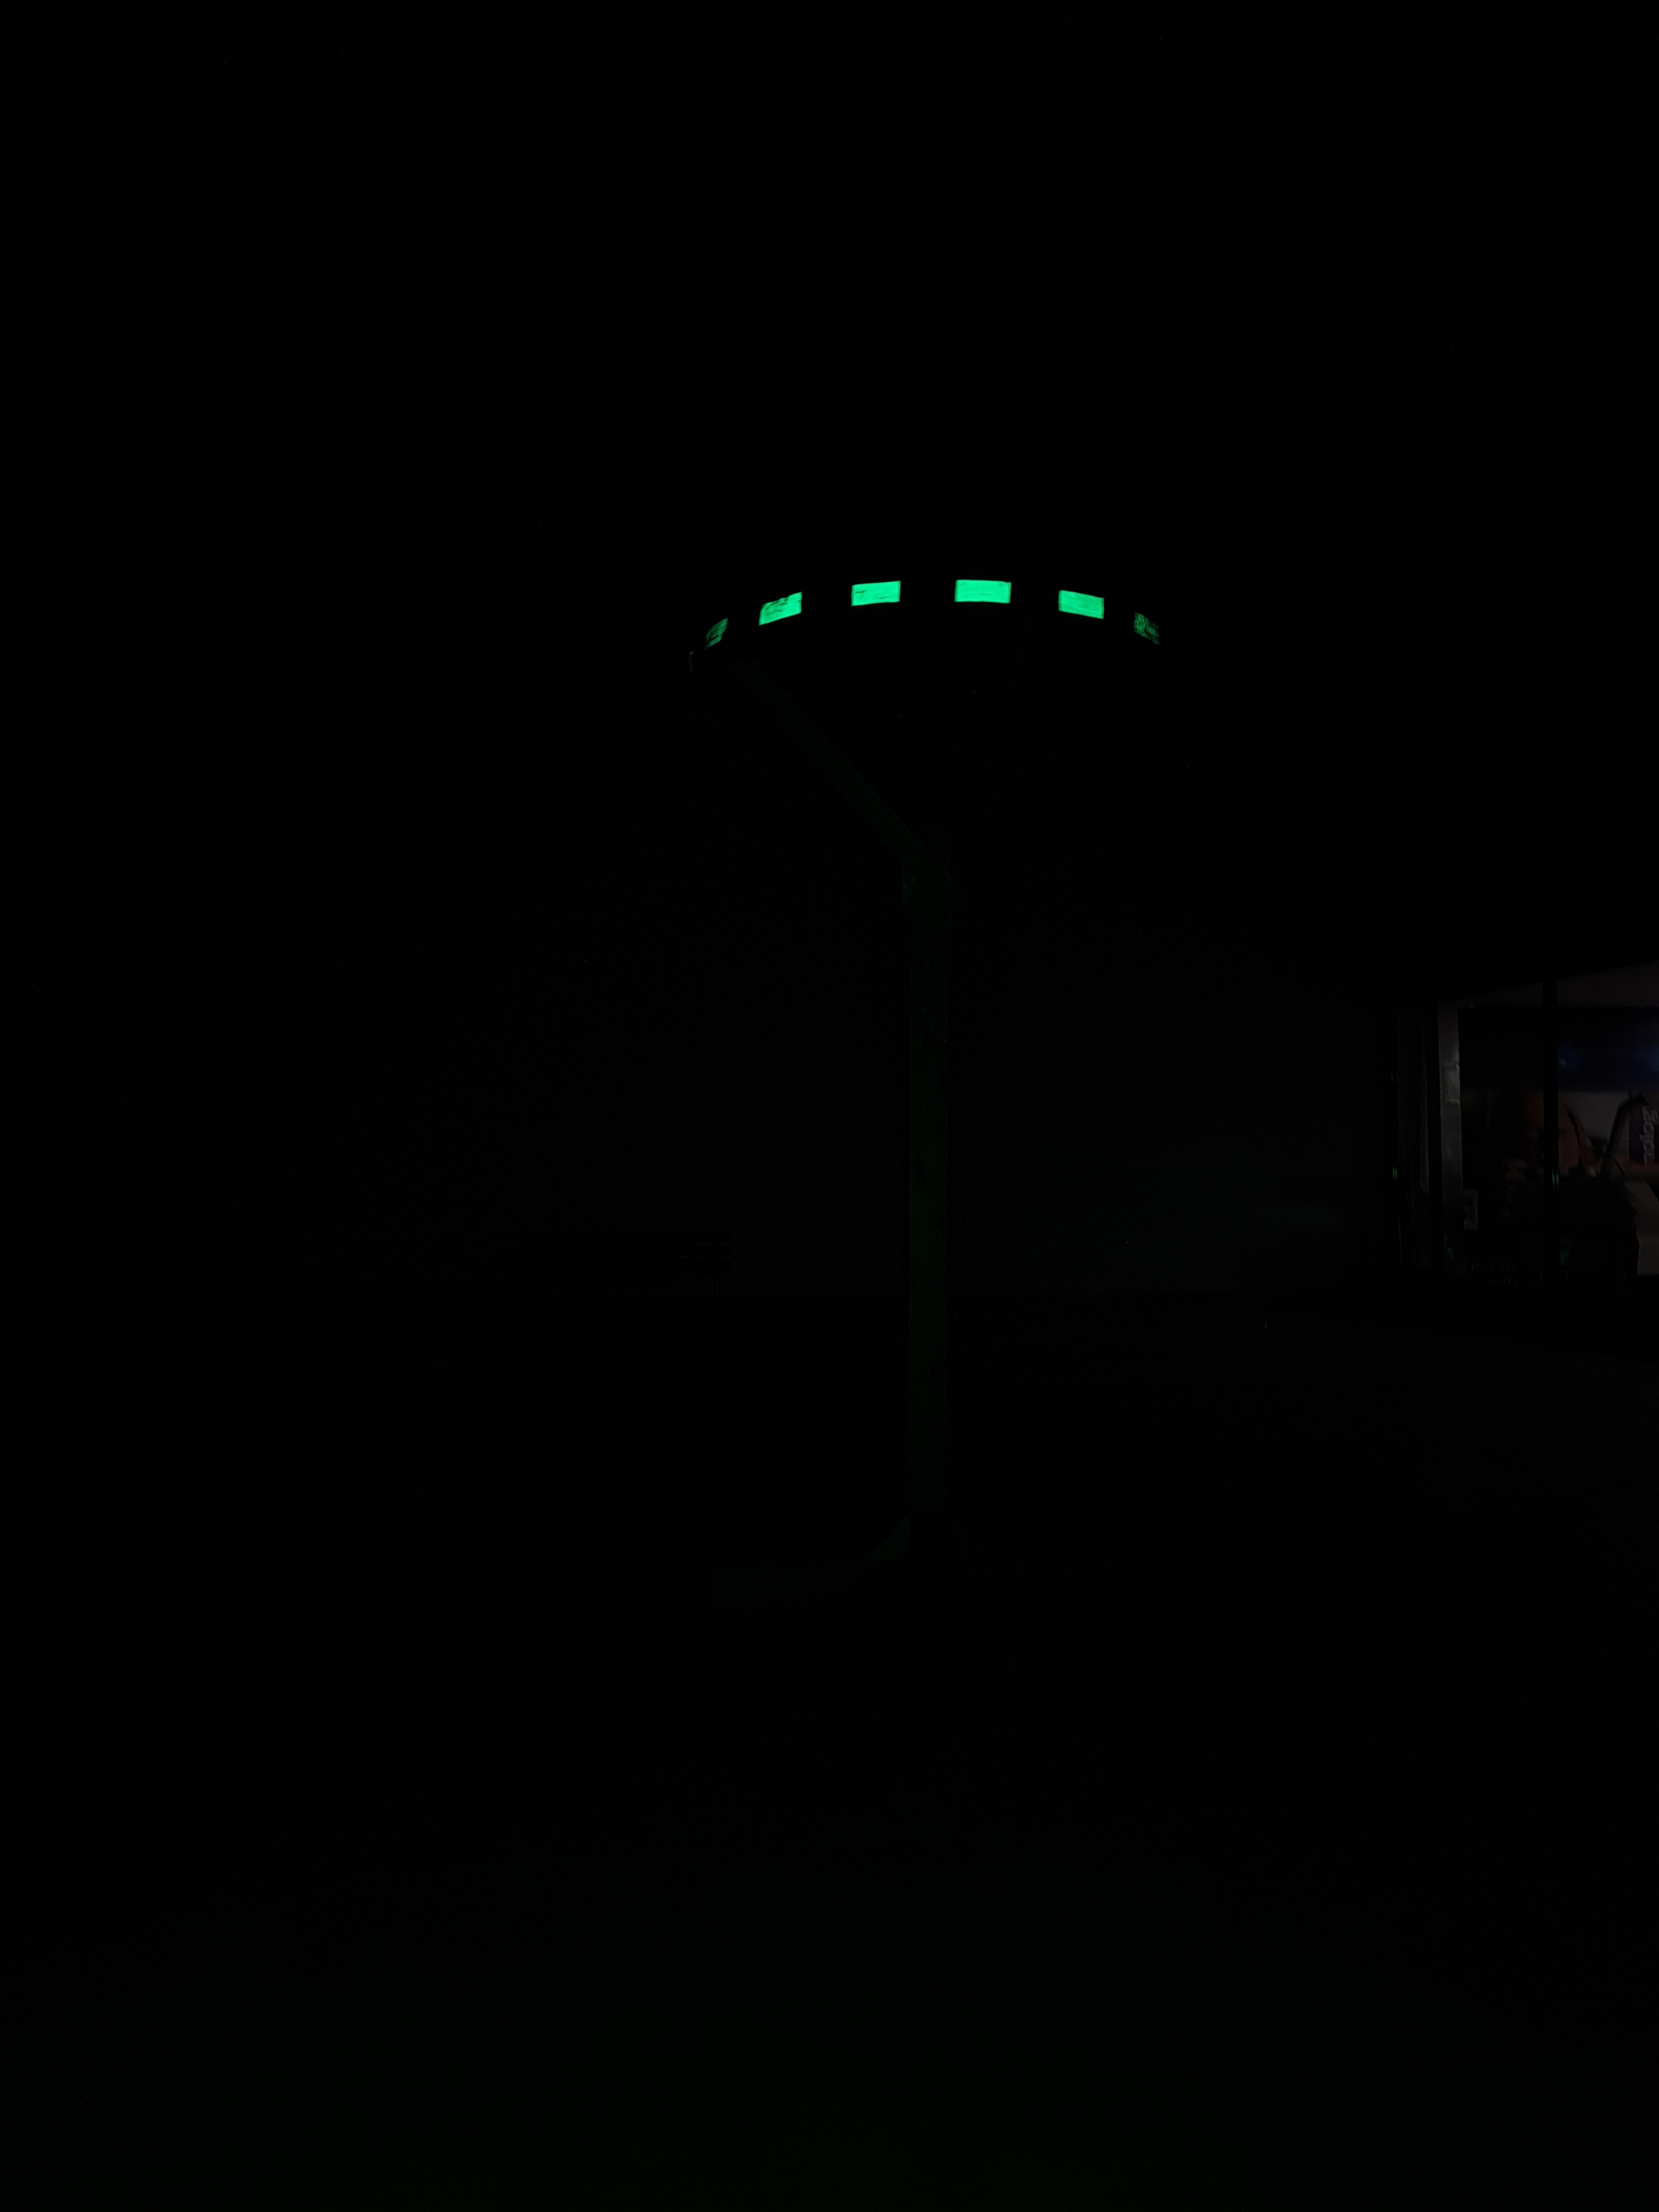hoop: (667, 550, 1180, 678)
